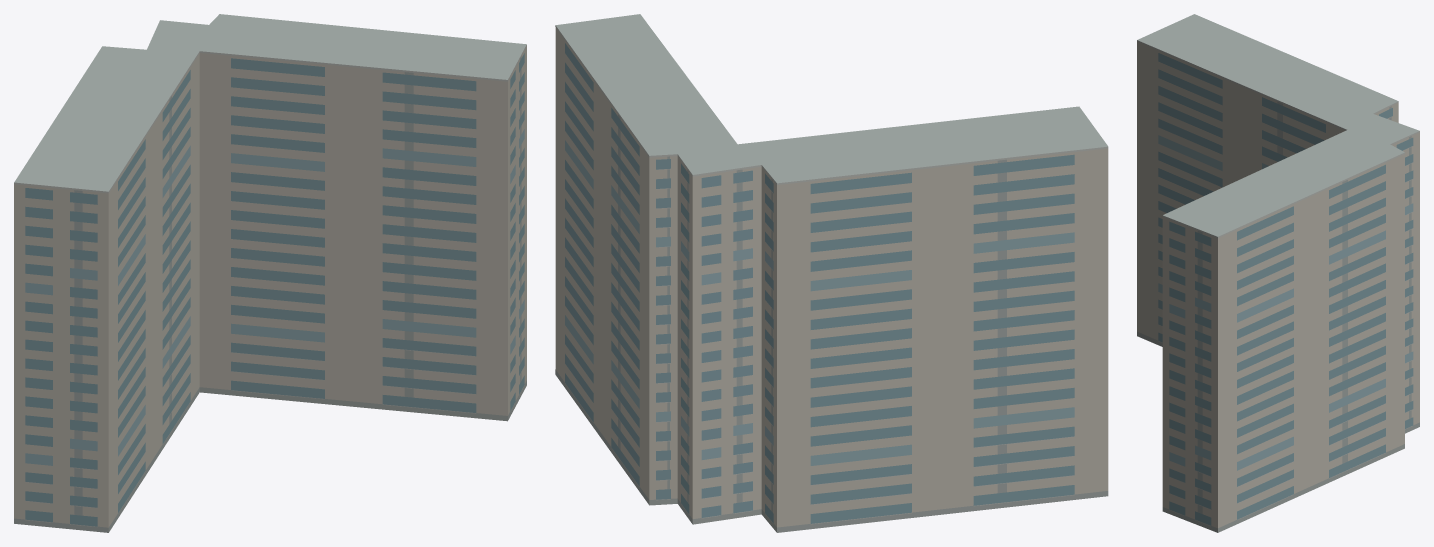
File: residential-34a2151b-a333-4031-9592-61f53a5a88da.glb
3 renders of one model, left to right at view 1: azimuth 30°, elevation 25°; view 2: azimuth 150°, elevation 25°; view 3: azimuth 270°, elevation 25°, orthographic. The views are drawn at different scales.
Parts seen in each view (by area): view 1: residential-34a2151b-a333-4031-9592-61f53a5a88da.tmp; view 2: residential-34a2151b-a333-4031-9592-61f53a5a88da.tmp; view 3: residential-34a2151b-a333-4031-9592-61f53a5a88da.tmp.
Part boxes in pixels (x1,y1,x2,y2): residential-34a2151b-a333-4031-9592-61f53a5a88da.tmp: (14, 14, 526, 532); residential-34a2151b-a333-4031-9592-61f53a5a88da.tmp: (555, 14, 1108, 532); residential-34a2151b-a333-4031-9592-61f53a5a88da.tmp: (1137, 14, 1419, 532).
Bounding box in the file's own units: 77.47 × 48 × 41.55.
